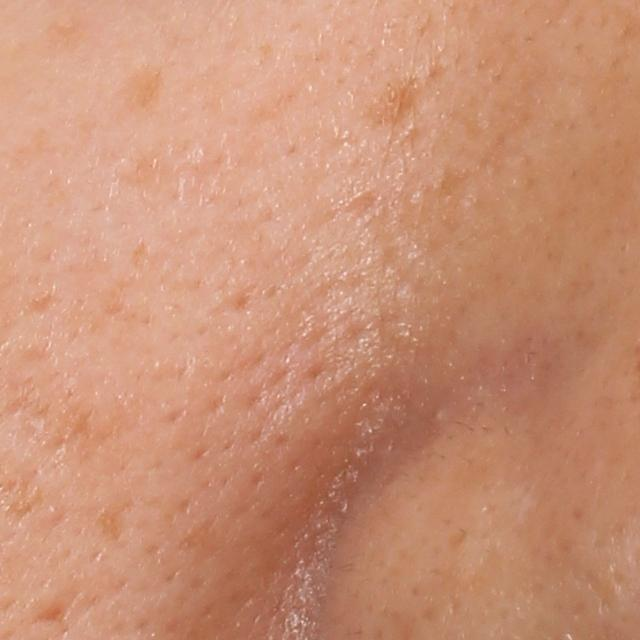atrophic_scar: (37, 597, 73, 627)
melasma: (372, 77, 423, 129), (117, 71, 161, 112)
